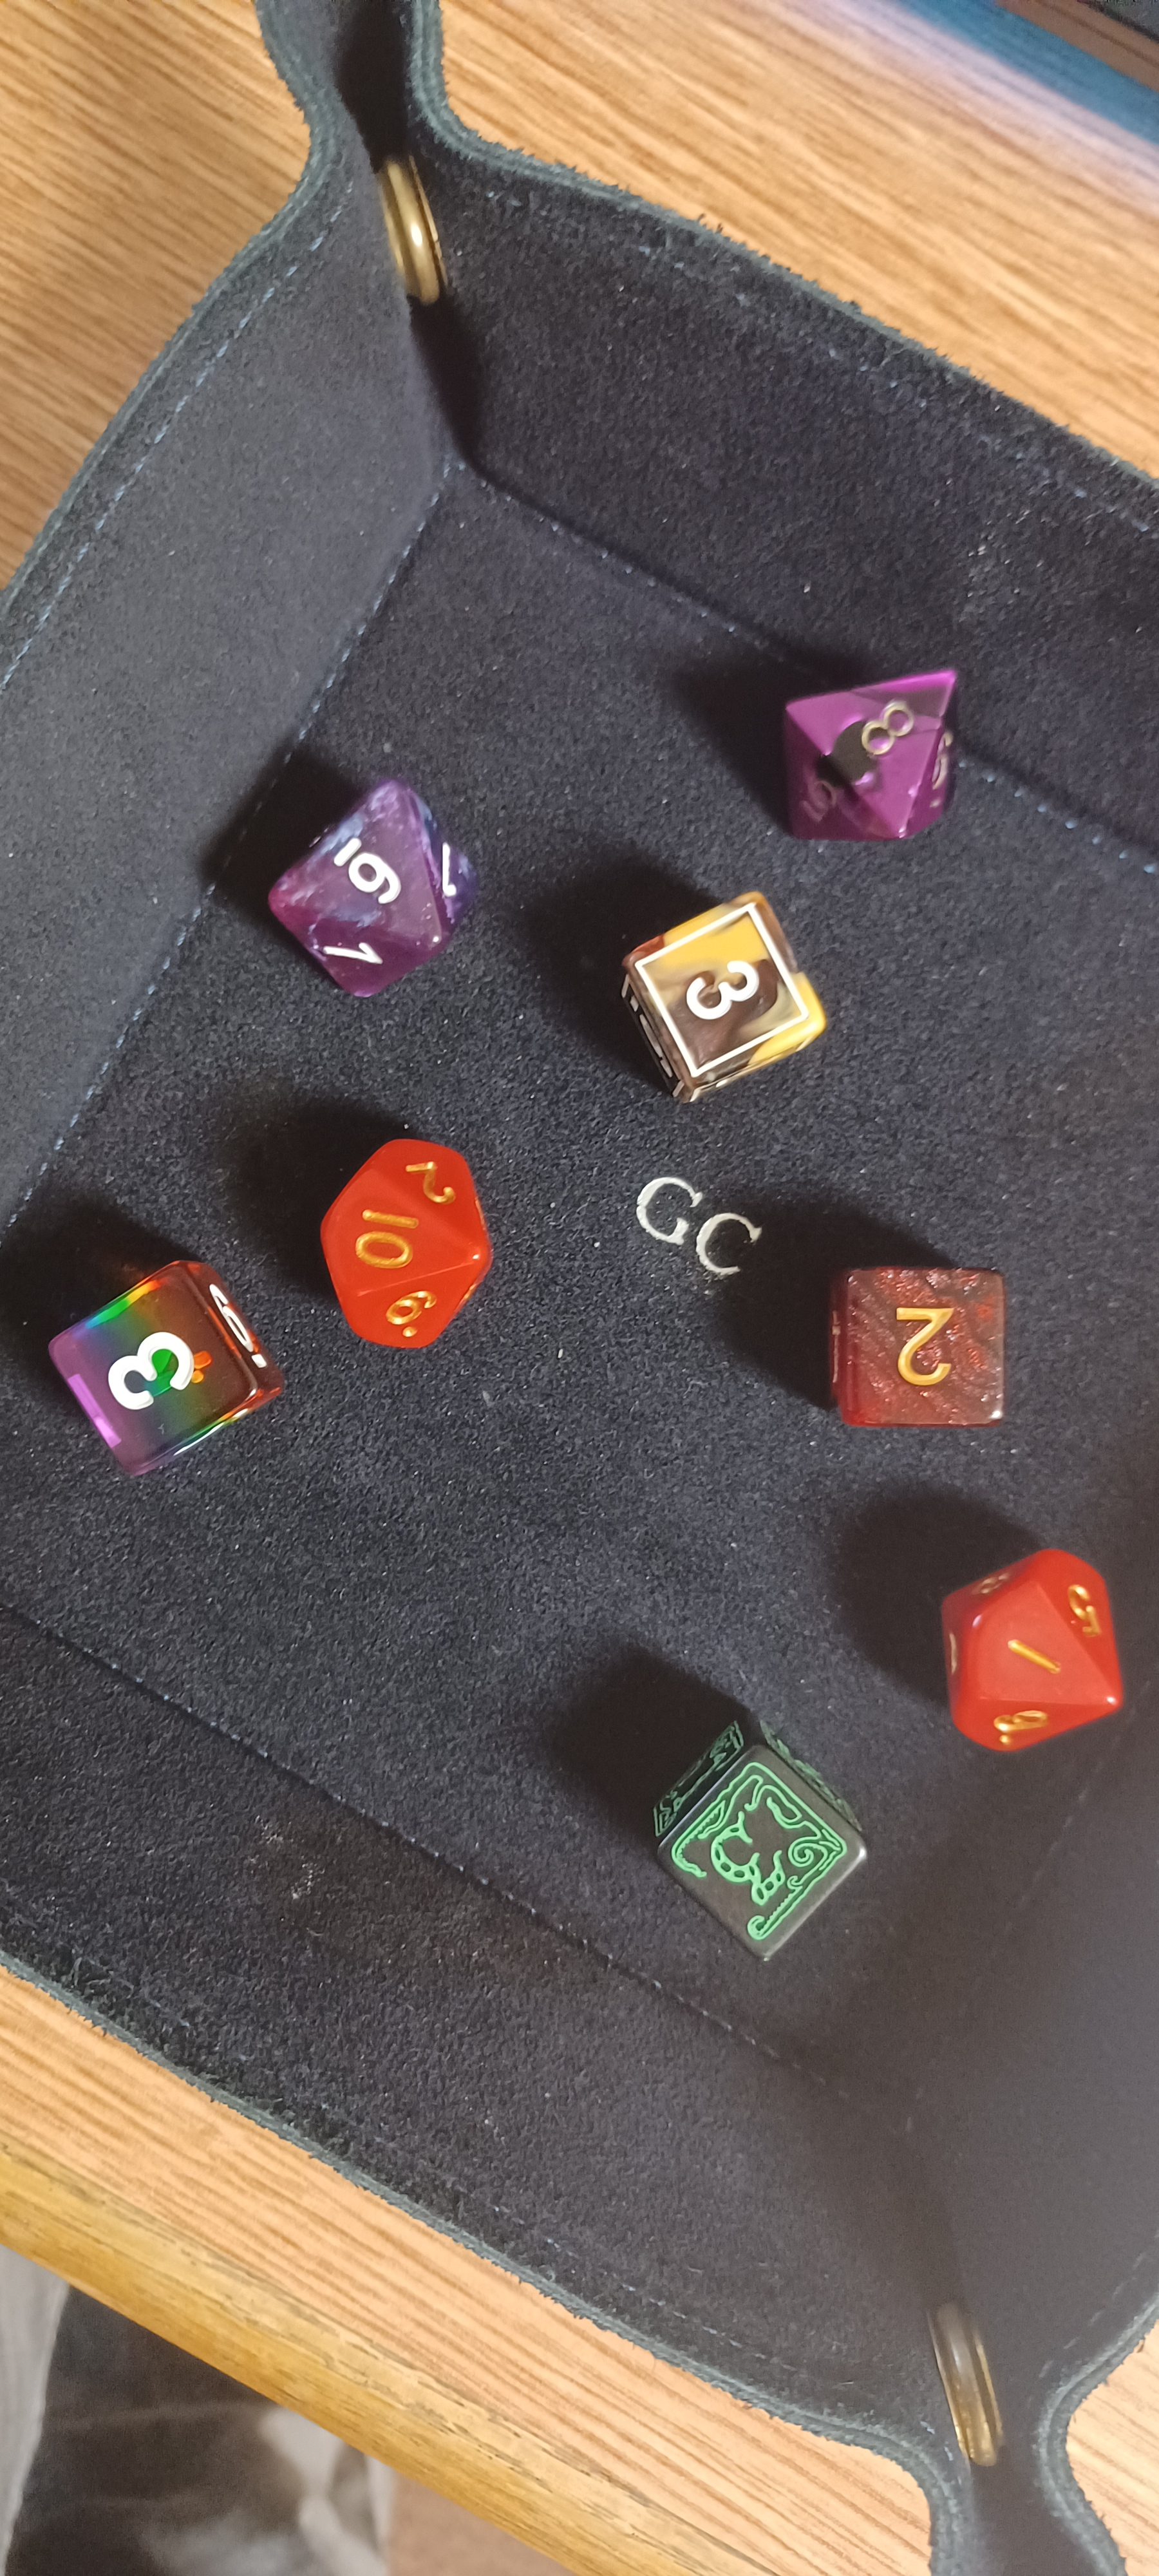eight: (704, 621, 1019, 874)
one: (895, 1520, 1144, 1797)
six: (204, 744, 519, 1015)
ten: (287, 1109, 534, 1360)
three: (586, 1682, 923, 1971), (26, 1214, 295, 1520), (566, 861, 872, 1130)
two: (785, 1217, 1074, 1470)
